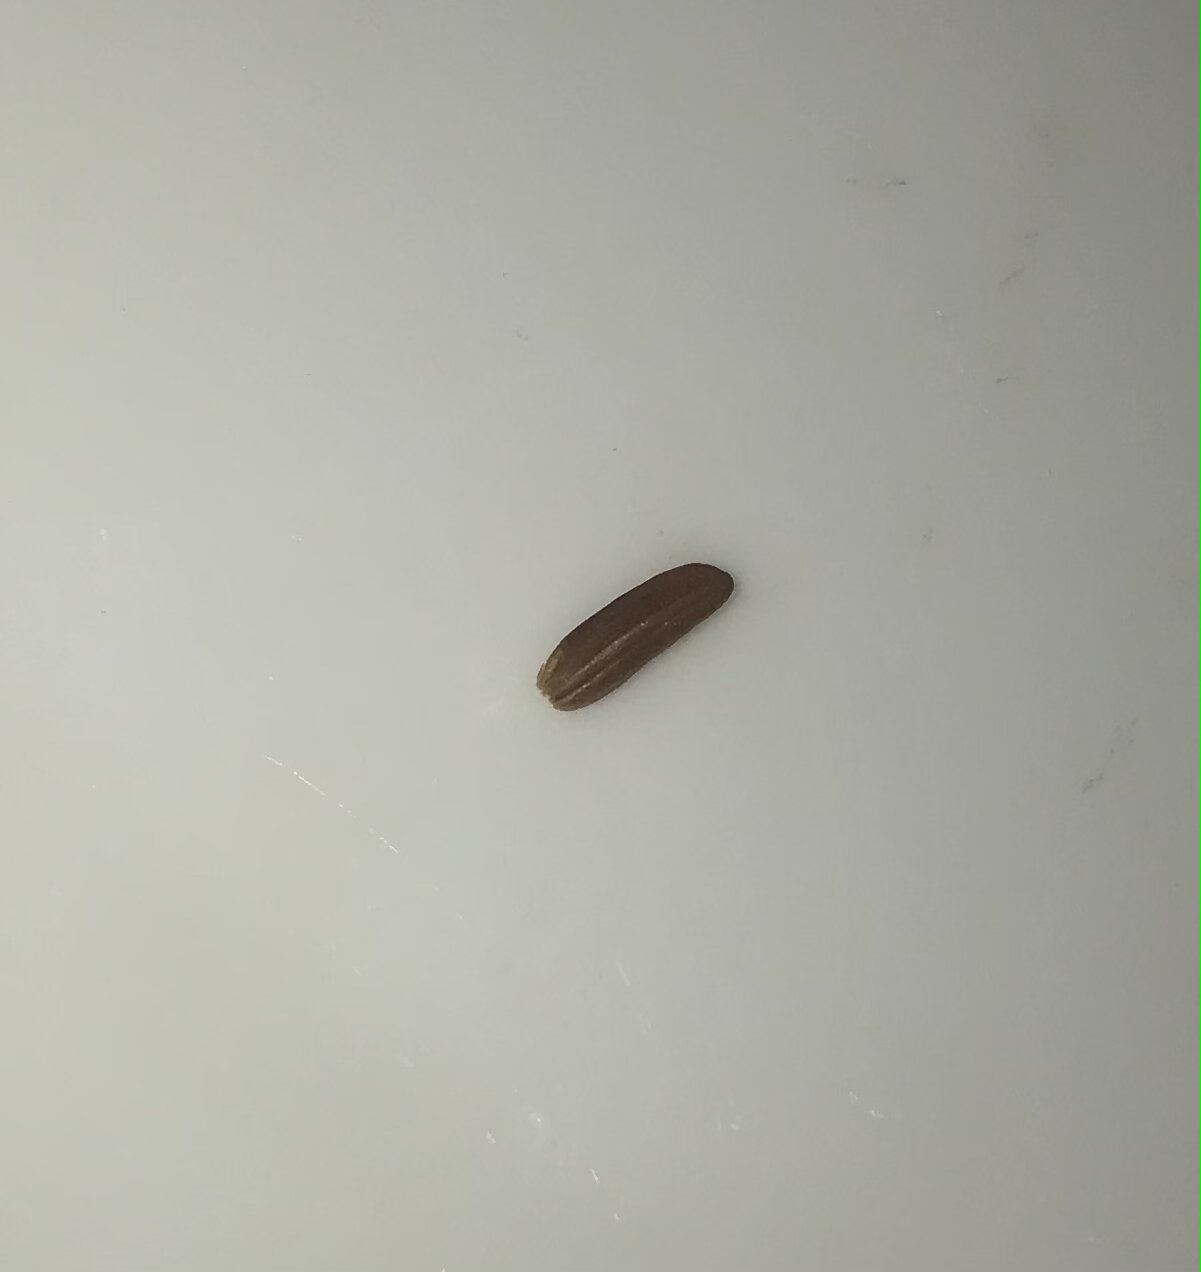Gao Huyet Rong: (533, 559, 740, 711)
